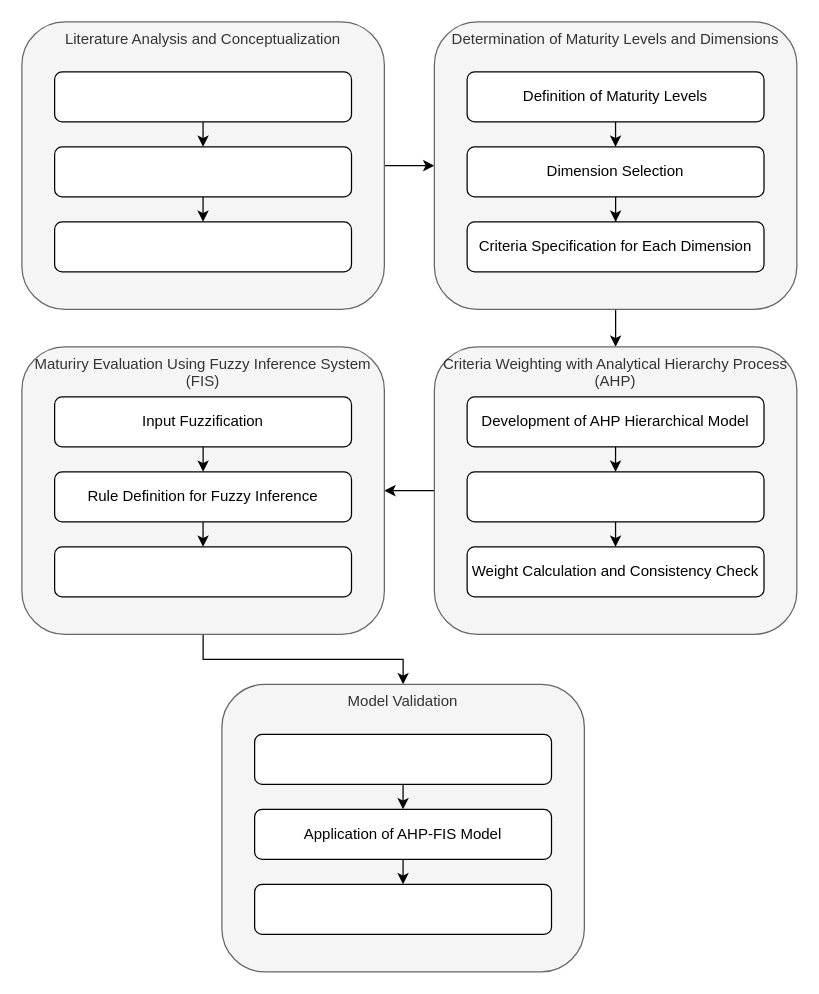
Image size: 819x994. Some labels were removed from this diagram. Here are the shapes that lost their labels. From the top down, the centre of each, then its label:
At (x=202, y=96): "Review of Industry 4.0 Maturity Models".
At (x=202, y=171): "Identification of Core Dimensions and Criteria".
At (x=202, y=246): "Model Design and Conceptualization".
At (x=615, y=496): "Pairwise Comparison and Expert Judgments".
At (x=202, y=571): "Output Defuzzification".
At (x=402, y=758): "Case Selection and Data Collection".
At (x=402, y=908): "Result Analysis and Model Adjustment".
